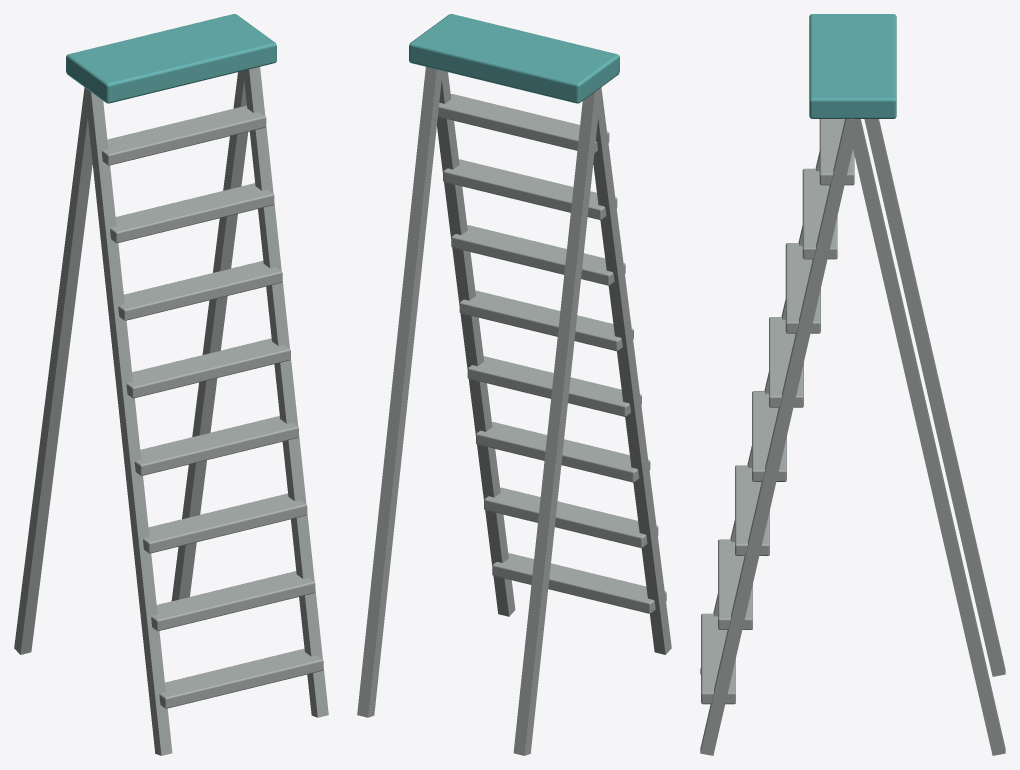
Rendered from indoor-climbing-and-bouldering-gym-indoor-climbing-and-c5336764__31540.glb.
3 views of the same model, side by side, from view 1: azimuth 30°, elevation 25°; view 2: azimuth 150°, elevation 25°; view 3: azimuth 270°, elevation 25° (orthographic). The views are drawn at different scales.
Visible parts, largest first — view 1: indoor-climbing-and-bouldering-gym-route-setting-ladder; view 2: indoor-climbing-and-bouldering-gym-route-setting-ladder; view 3: indoor-climbing-and-bouldering-gym-route-setting-ladder.
Part boxes in pixels (x1,y1,x2,y2): indoor-climbing-and-bouldering-gym-route-setting-ladder: (14, 14, 328, 755); indoor-climbing-and-bouldering-gym-route-setting-ladder: (357, 14, 671, 755); indoor-climbing-and-bouldering-gym-route-setting-ladder: (700, 14, 1005, 755).
Size of the model in its own units: 0.7 by 2.48 by 1.04.
